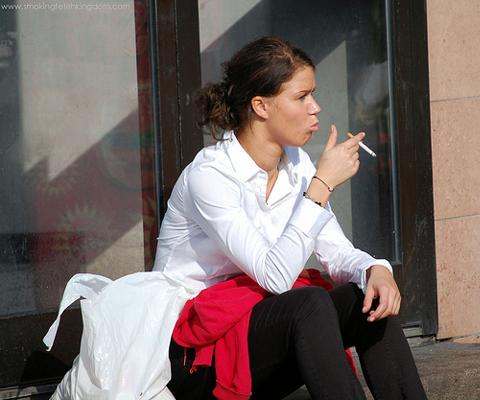person: (152, 34, 434, 400)
